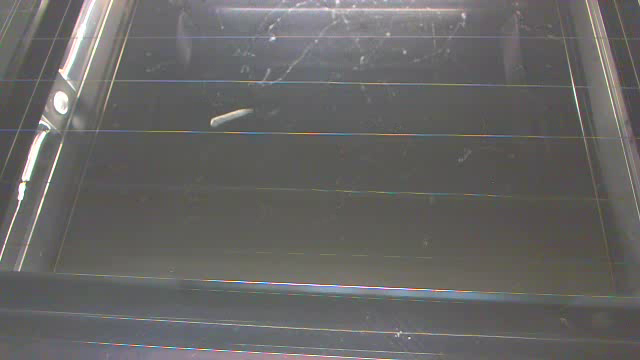alpha: (210, 107, 255, 129)
